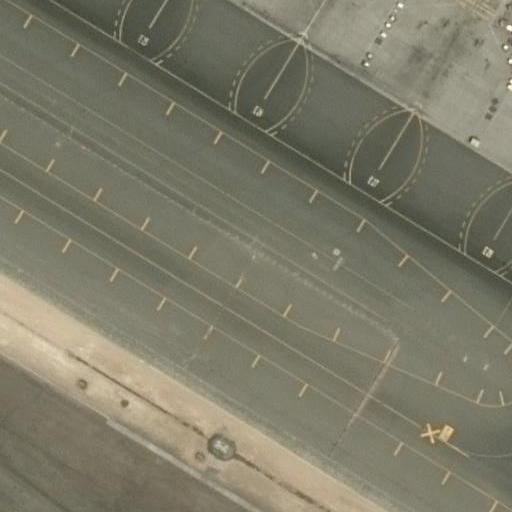Aircraft: (509, 54, 512, 167)
